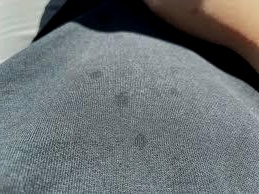oil: (89, 65, 107, 80), (116, 90, 132, 106), (139, 133, 147, 145), (173, 86, 181, 93)
